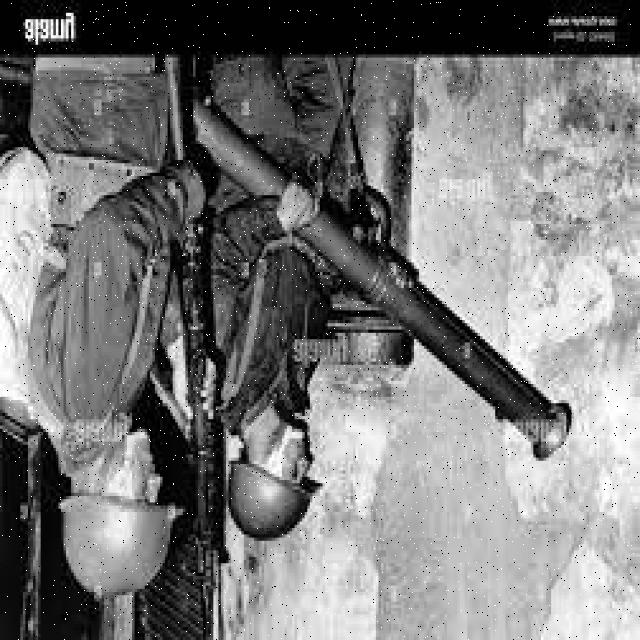bazooka: (178, 84, 576, 468)
